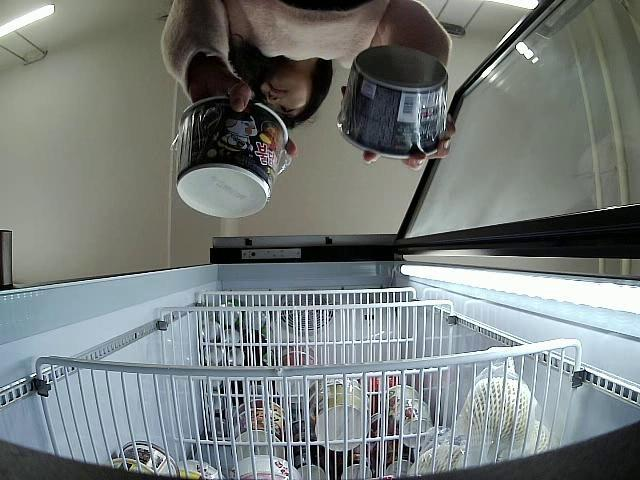07_buldak_L: (172, 98, 290, 219), (336, 44, 450, 158)
